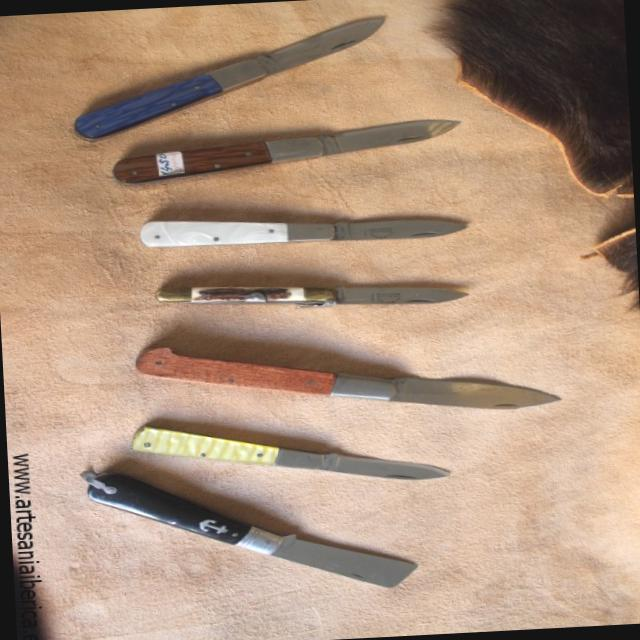knife: (318, 353, 576, 424), (196, 11, 404, 98), (242, 114, 476, 174), (276, 436, 462, 492), (266, 203, 478, 252), (283, 270, 475, 314)
